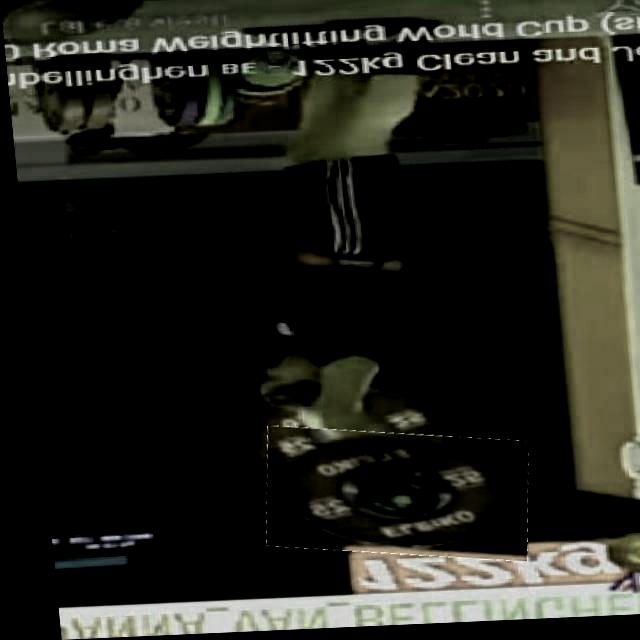barbell: (251, 427, 525, 569)
